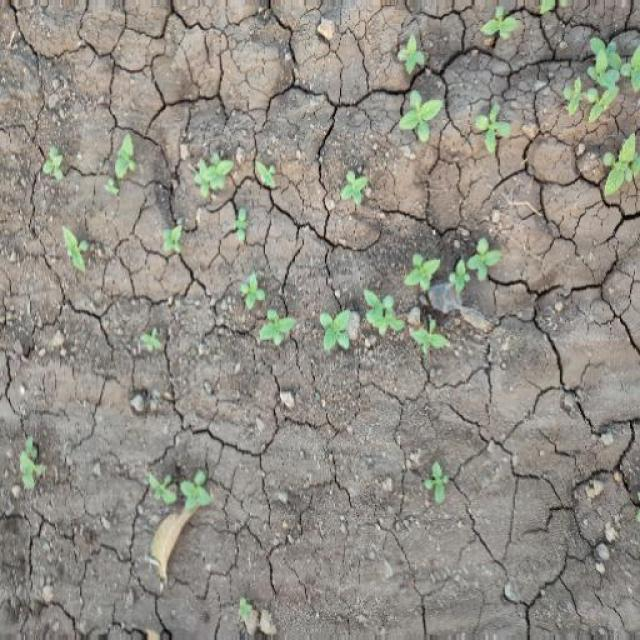crop: (402, 238, 518, 362), (544, 30, 640, 126), (190, 149, 280, 250), (316, 285, 394, 363), (398, 30, 442, 161), (238, 275, 302, 353), (135, 465, 217, 510), (586, 135, 640, 199), (49, 224, 106, 275), (472, 105, 522, 160), (99, 134, 136, 191), (338, 162, 368, 212)
